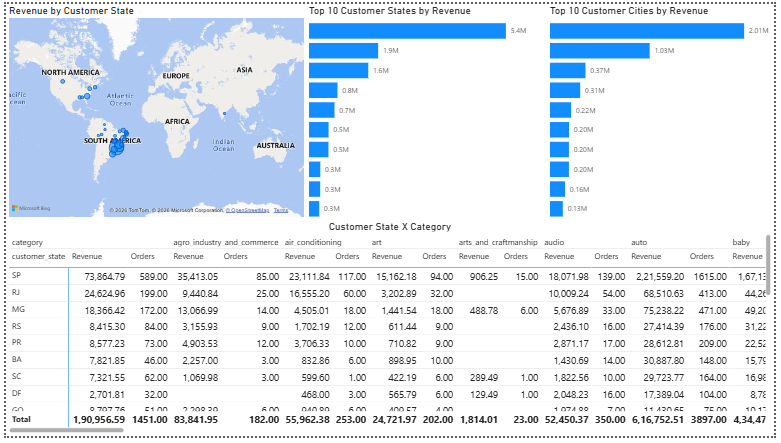

What the dashboard file says about the page in this screenshot:
{"tool":"powerbi","page":{"name":"Customer Geo","canvas":[1280,720],"ordinal":3},"visuals":[{"type":"pivotTable","title":"Customer State X Category","fields":{"Values":["public bi_fact_sales.Revenue","public bi_fact_sales.Orders"],"Rows":["public bi_fact_sales.customer_state"],"Columns":["public bi_fact_sales.category"]},"box":[0,359.8,1280,359.8],"z":0},{"type":"map","title":"Revenue by Customer State","fields":{"Category":["public bi_fact_sales.customer_state"],"Size":["public bi_fact_sales.Revenue"]},"box":[0,0,500.7,359.8],"z":1000},{"type":"barChart","title":"Top 10 Customer States by Revenue","fields":{"Y":["public bi_fact_sales.Revenue"],"Category":["public bi_fact_sales.customer_state"]},"box":[500.7,0,378.2,359.8],"z":2000},{"type":"barChart","title":"Top 10 Customer Cities by Revenue","fields":{"Y":["public bi_fact_sales.Revenue"],"Category":["public bi_fact_sales.customer_city"]},"box":[901.8,0,378.2,359.8],"z":3000}]}

Visuals, with their boxes in screenshot pixels (x1, y1, x2, y2), scaled from the page's 1280x720 canvas onto the 781x443 screenshot:
"Customer State X Category" pivotTable: (0,221,780,442)
"Revenue by Customer State" map: (0,0,306,221)
"Top 10 Customer States by Revenue" barChart: (306,0,536,221)
"Top 10 Customer Cities by Revenue" barChart: (550,0,780,221)
